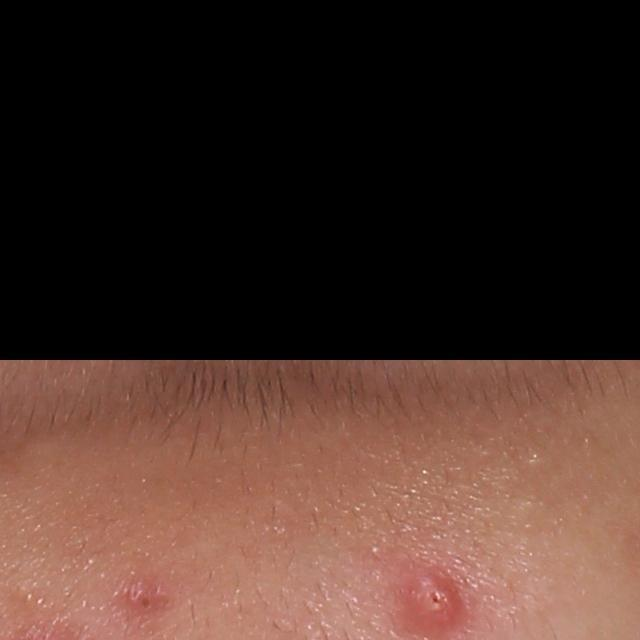papule: (398, 565, 462, 627)
